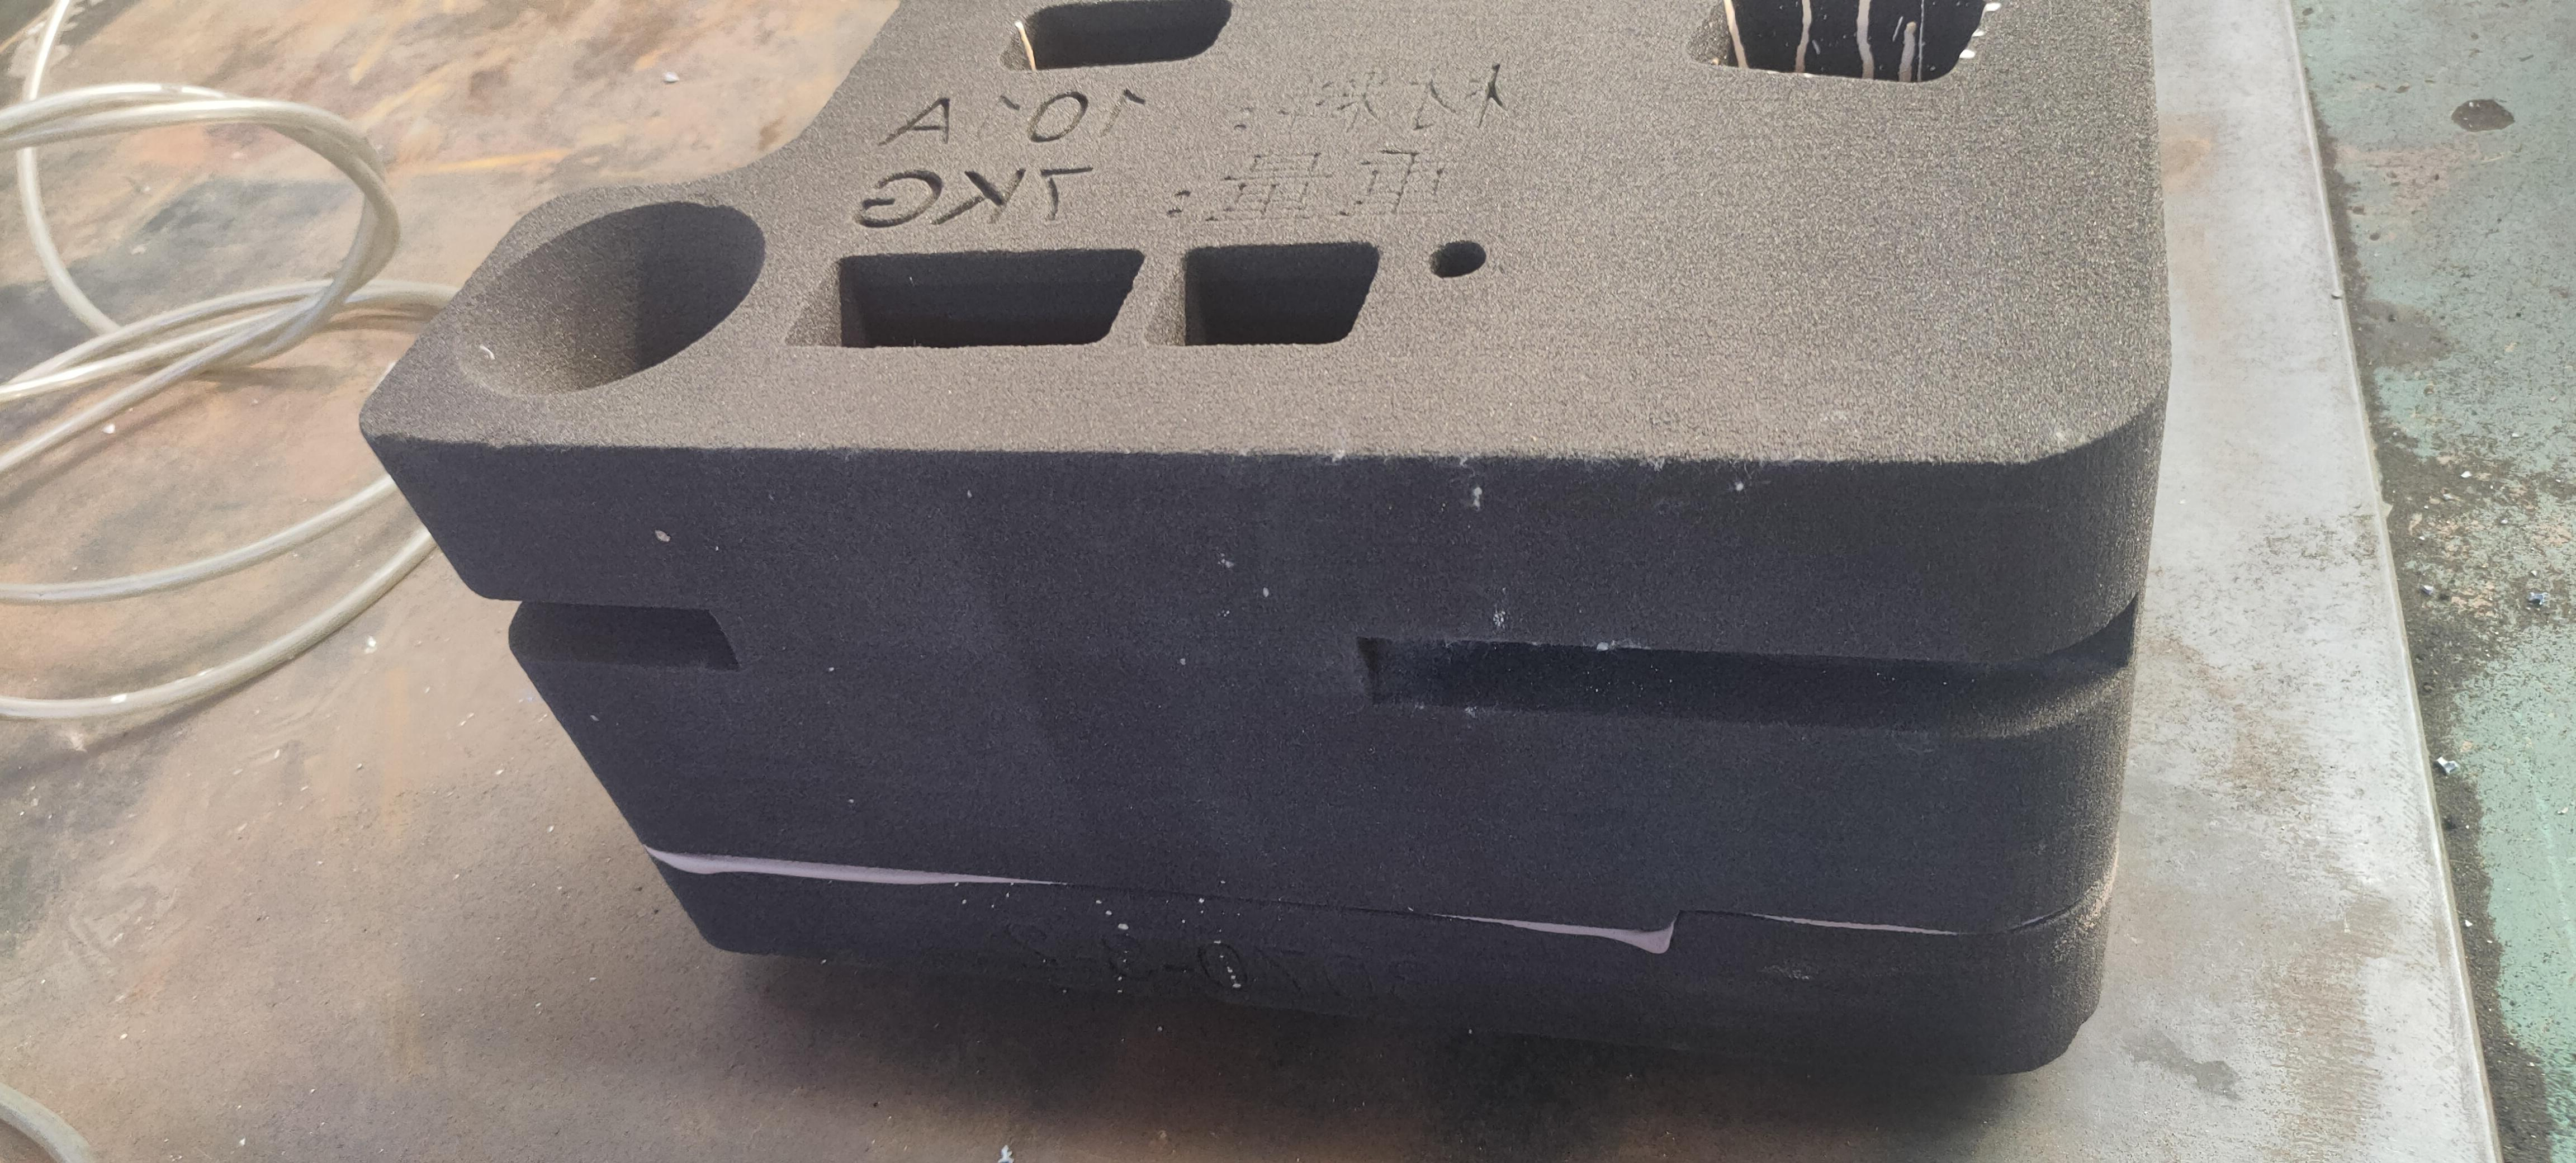pouring hole: (447, 200, 767, 394)
